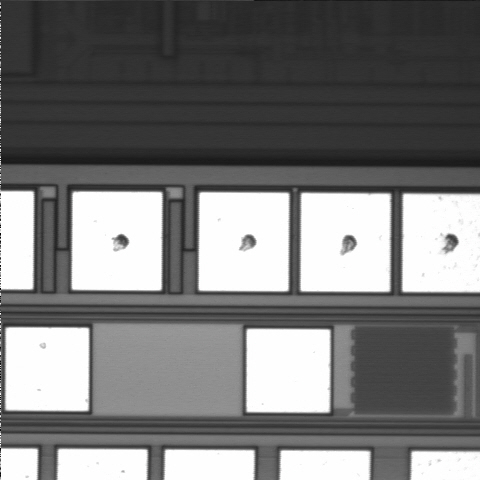pad: (199, 192, 289, 291), (72, 192, 162, 290), (301, 193, 390, 292), (6, 328, 89, 411), (247, 329, 330, 412)
